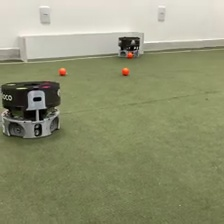ball: (58, 65, 67, 76), (121, 66, 129, 75), (126, 50, 134, 59)
goal: (17, 31, 145, 64)
robot: (1, 78, 63, 140), (117, 34, 141, 59)
